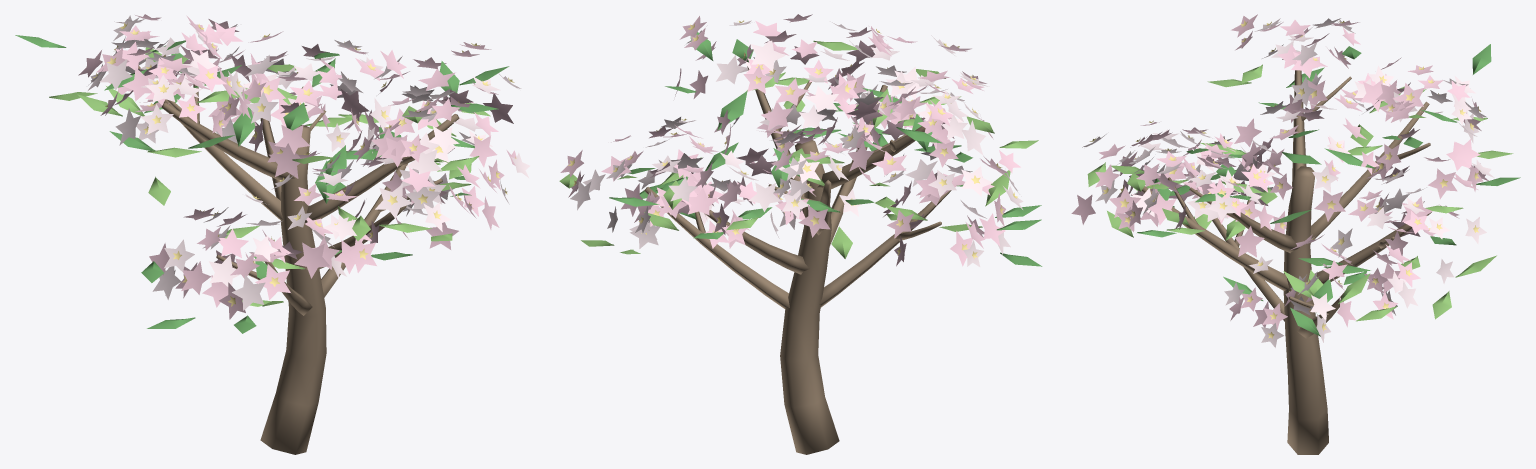
The model's file is SM_PlantBlossomLod1.fbx.
3 renders of one model, left to right at view 1: azimuth 30°, elevation 25°; view 2: azimuth 150°, elevation 25°; view 3: azimuth 270°, elevation 25°, orthographic. The views are drawn at different scales.
Parts seen in each view (by area): view 1: PlantBlossomLod1; view 2: PlantBlossomLod1; view 3: PlantBlossomLod1.
Boxes of the visible parts, left/top/right/bottom form: PlantBlossomLod1: left=15, top=14, right=529, bottom=454; PlantBlossomLod1: left=559, top=14, right=1042, bottom=454; PlantBlossomLod1: left=1071, top=14, right=1520, bottom=454.
Size of the model in its own units: 1.74 by 1.73 by 1.83.
